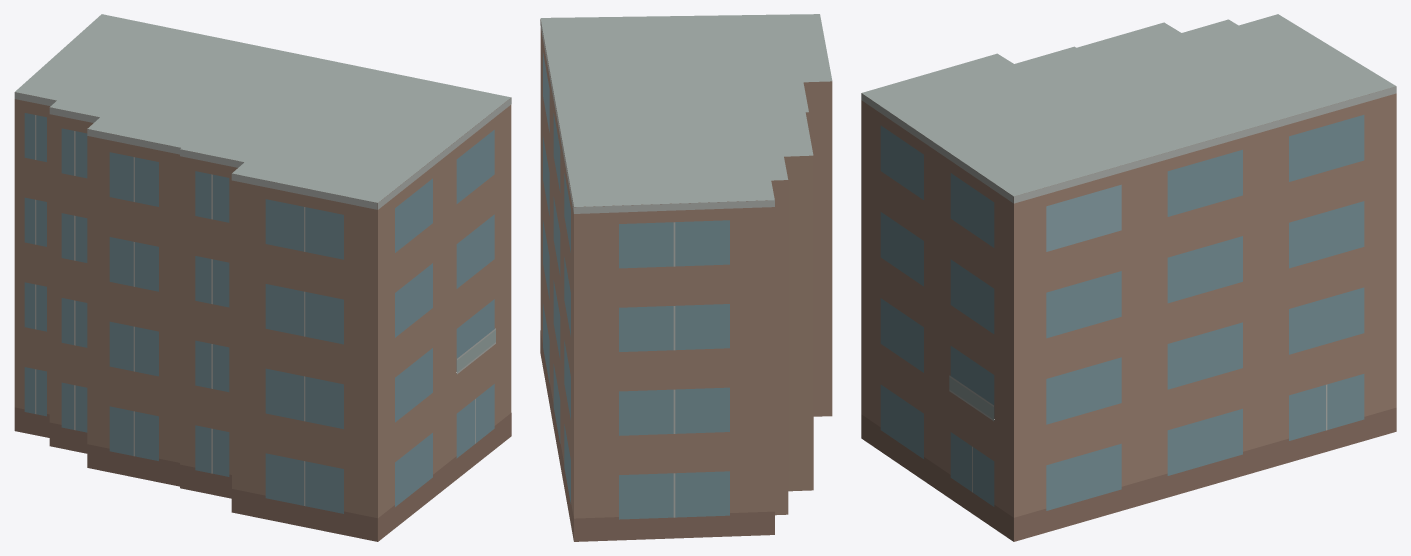
File: survey-upis-32824962.glb
The picture shows the model from 3 angles, left to right: view 1: azimuth 30°, elevation 25°; view 2: azimuth 150°, elevation 25°; view 3: azimuth 270°, elevation 25°; orthographic projection. The views are drawn at different scales.
Visible parts, largest first — view 1: survey-upis-32824962.tmp; view 2: survey-upis-32824962.tmp; view 3: survey-upis-32824962.tmp.
Boxes of the visible parts, <box> form: survey-upis-32824962.tmp: <box>14,14,511,541</box>; survey-upis-32824962.tmp: <box>540,14,832,541</box>; survey-upis-32824962.tmp: <box>861,14,1396,541</box>.
Bounding box in the file's own units: 13.38 × 11.8 × 16.58.
